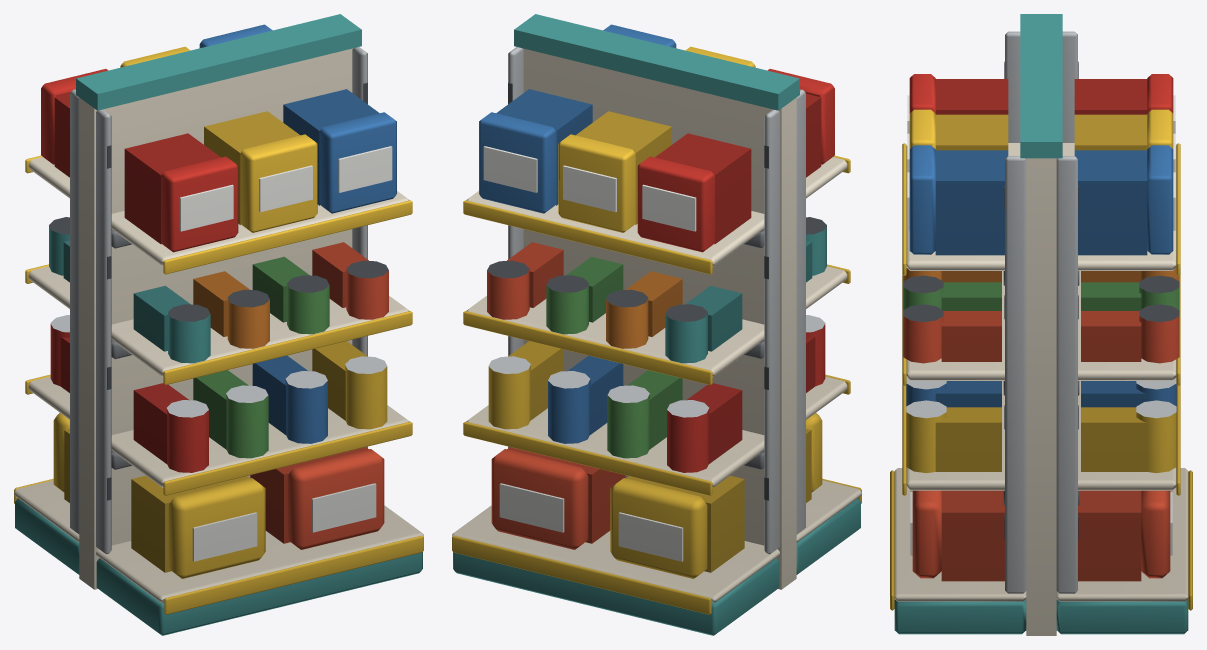
File: Gondola_Island_10_Stocked.glb
The picture shows the model from 3 angles, left to right: view 1: azimuth 30°, elevation 25°; view 2: azimuth 150°, elevation 25°; view 3: azimuth 270°, elevation 25°; orthographic projection.
Visible parts, largest first — view 1: SM_Gondola_Island_10_Stocked; view 2: SM_Gondola_Island_10_Stocked; view 3: SM_Gondola_Island_10_Stocked.
Boxes of the visible parts, bbox=[...] form: SM_Gondola_Island_10_Stocked: bbox=[14, 14, 423, 635]; SM_Gondola_Island_10_Stocked: bbox=[452, 14, 861, 635]; SM_Gondola_Island_10_Stocked: bbox=[890, 14, 1192, 635].
Bounding box in the file's own units: 1 × 1.8 × 1.
Materials: 1 (1 with a texture image).
